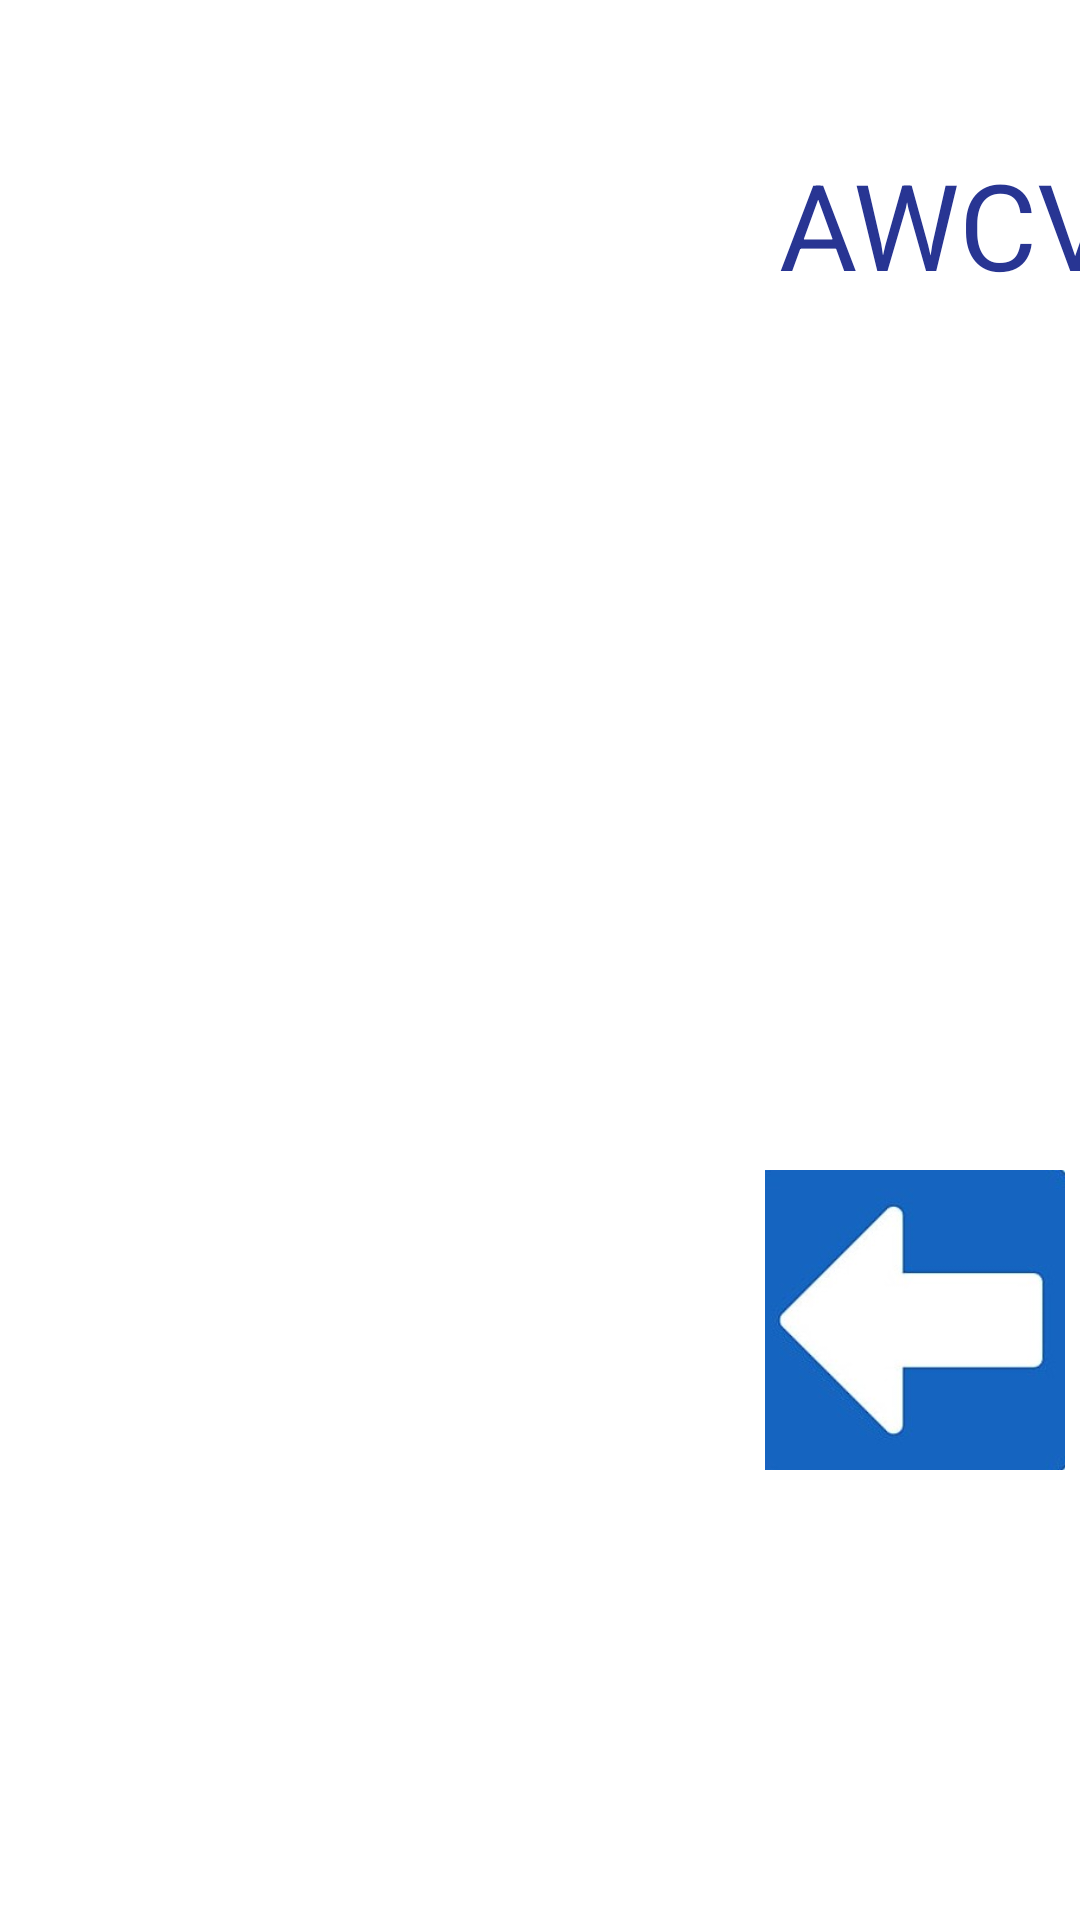

Locate icon controls on the screen. Image size 1080w x 1920h, boxes as (x1=x1, y1=y1, x2=x2, y2=y2).
left: (x1=765, y1=1170, x2=1065, y2=1470)
